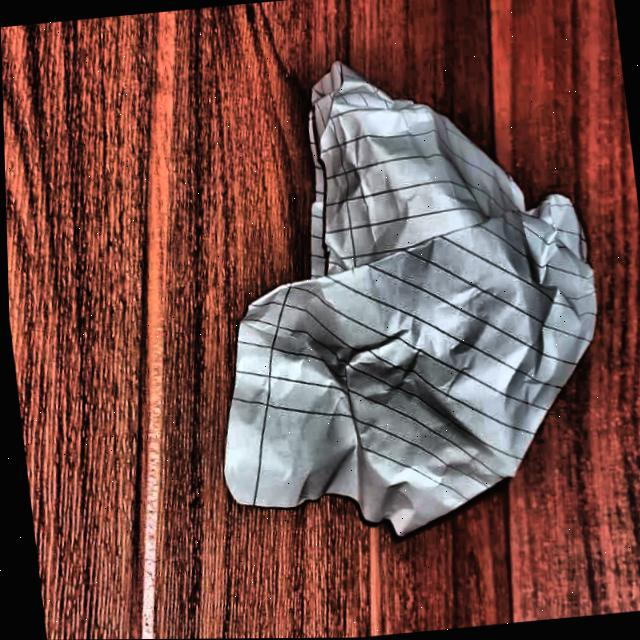paper: (186, 38, 630, 547)
